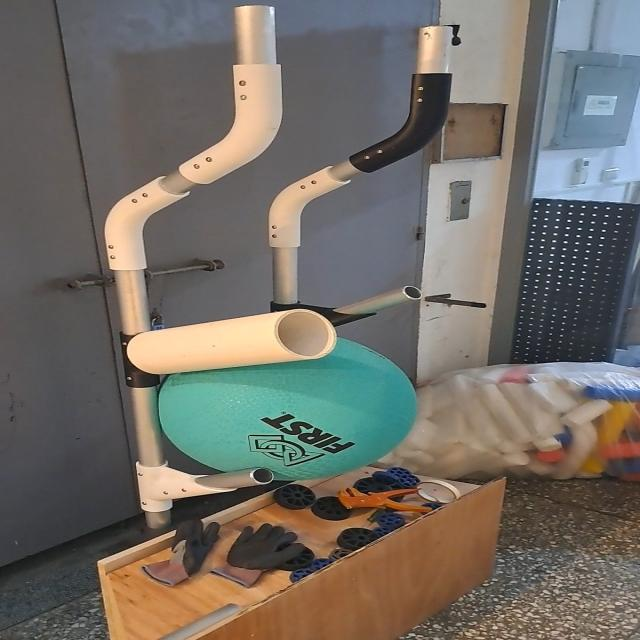ALGAE: (155, 333, 424, 482)
CORAL: (113, 308, 341, 381)
